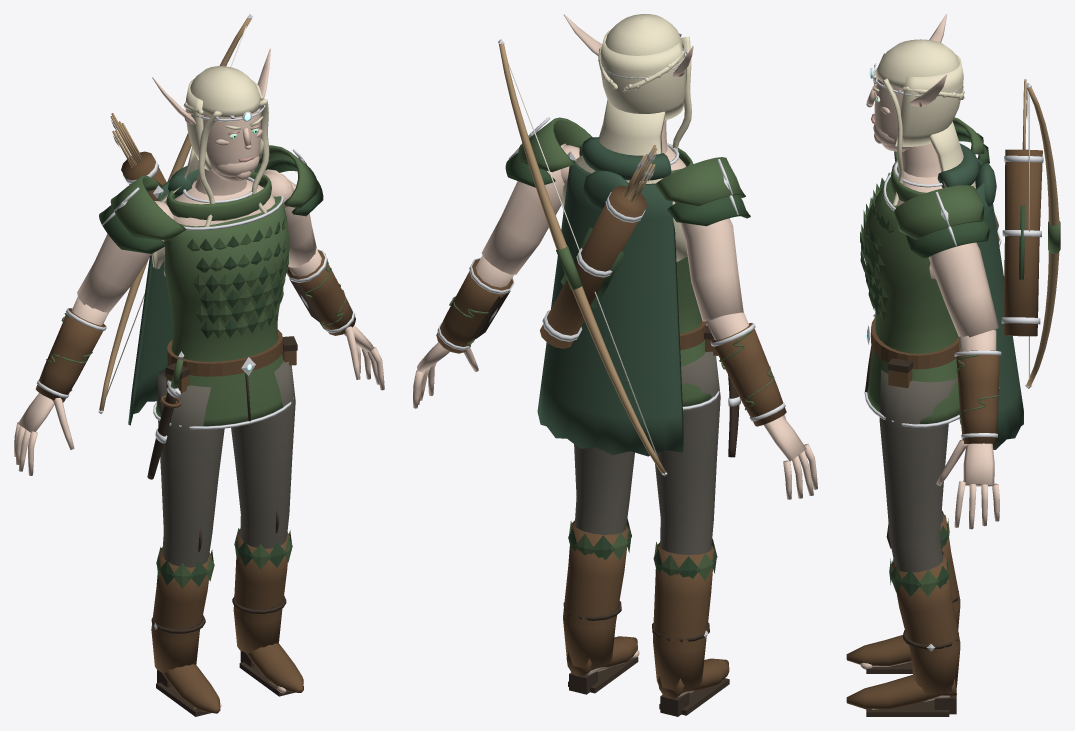
3 renders of one model, left to right at view 1: azimuth 30°, elevation 25°; view 2: azimuth 150°, elevation 25°; view 3: azimuth 270°, elevation 25°, orthographic. The views are drawn at different scales.
Visible parts, largest first — view 1: sylvanor__OW_Armor_ElvenRanger_01_Chest, sylvanor__OW_Armor_ElvenRanger_01_Legs, sylvanor__OW_Armor_ElvenRanger_01_Feet, sylvanor__OW_Char_Elf_01_Body_Head, sylvanor__OW_Armor_ElvenRanger_01_Back, sylvanor__OW_Armor_ElvenRanger_01_Arms, sylvanor__OW_Char_Elf_01_Body_Arms, sylvanor__OW_Armor_ElvenRanger_01_Shoulders, sylvanor__OW_Char_Elf_01_Body_Hands, sylvanor__OW_Armor_ElvenRanger_01_Weapon_Hip, sylvanor__OW_Char_Elf_01_Body_Torso; view 2: sylvanor__OW_Armor_ElvenRanger_01_Back, sylvanor__OW_Armor_ElvenRanger_01_Feet, sylvanor__OW_Armor_ElvenRanger_01_Legs, sylvanor__OW_Char_Elf_01_Body_Head, sylvanor__OW_Char_Elf_01_Body_Arms, sylvanor__OW_Armor_ElvenRanger_01_Arms, sylvanor__OW_Armor_ElvenRanger_01_Shoulders, sylvanor__OW_Char_Elf_01_Body_Hands, sylvanor__OW_Armor_ElvenRanger_01_Chest, sylvanor__OW_Armor_ElvenRanger_01_Weapon_Hip; view 3: sylvanor__OW_Armor_ElvenRanger_01_Back, sylvanor__OW_Armor_ElvenRanger_01_Chest, sylvanor__OW_Armor_ElvenRanger_01_Feet, sylvanor__OW_Char_Elf_01_Body_Head, sylvanor__OW_Armor_ElvenRanger_01_Legs, sylvanor__OW_Armor_ElvenRanger_01_Shoulders, sylvanor__OW_Char_Elf_01_Body_Arms, sylvanor__OW_Armor_ElvenRanger_01_Arms, sylvanor__OW_Char_Elf_01_Body_Hands, sylvanor__OW_Char_Elf_01_Body_Torso.
Boxes of the visible parts, bbox=[...] form: sylvanor__OW_Armor_ElvenRanger_01_Chest: bbox=[153, 172, 297, 429]; sylvanor__OW_Armor_ElvenRanger_01_Legs: bbox=[158, 360, 295, 567]; sylvanor__OW_Armor_ElvenRanger_01_Feet: bbox=[151, 528, 303, 716]; sylvanor__OW_Char_Elf_01_Body_Head: bbox=[151, 48, 270, 268]; sylvanor__OW_Armor_ElvenRanger_01_Back: bbox=[98, 14, 254, 425]; sylvanor__OW_Armor_ElvenRanger_01_Arms: bbox=[35, 249, 355, 402]; sylvanor__OW_Char_Elf_01_Body_Arms: bbox=[71, 169, 321, 325]; sylvanor__OW_Armor_ElvenRanger_01_Shoulders: bbox=[99, 145, 323, 253]; sylvanor__OW_Char_Elf_01_Body_Hands: bbox=[14, 325, 384, 475]; sylvanor__OW_Armor_ElvenRanger_01_Weapon_Hip: bbox=[147, 351, 184, 479]; sylvanor__OW_Char_Elf_01_Body_Torso: bbox=[164, 179, 275, 276]; sylvanor__OW_Armor_ElvenRanger_01_Back: bbox=[498, 39, 684, 476]; sylvanor__OW_Armor_ElvenRanger_01_Feet: bbox=[563, 518, 729, 716]; sylvanor__OW_Armor_ElvenRanger_01_Legs: bbox=[574, 351, 720, 554]; sylvanor__OW_Char_Elf_01_Body_Head: bbox=[562, 14, 693, 261]; sylvanor__OW_Char_Elf_01_Body_Arms: bbox=[475, 143, 748, 340]; sylvanor__OW_Armor_ElvenRanger_01_Arms: bbox=[436, 257, 786, 426]; sylvanor__OW_Armor_ElvenRanger_01_Shoulders: bbox=[505, 117, 750, 226]; sylvanor__OW_Char_Elf_01_Body_Hands: bbox=[413, 342, 817, 499]; sylvanor__OW_Armor_ElvenRanger_01_Chest: bbox=[579, 137, 719, 410]; sylvanor__OW_Armor_ElvenRanger_01_Weapon_Hip: bbox=[720, 359, 740, 457]; sylvanor__OW_Armor_ElvenRanger_01_Back: bbox=[937, 79, 1060, 449]; sylvanor__OW_Armor_ElvenRanger_01_Chest: bbox=[860, 159, 959, 427]; sylvanor__OW_Armor_ElvenRanger_01_Feet: bbox=[846, 511, 960, 716]; sylvanor__OW_Char_Elf_01_Body_Head: bbox=[866, 14, 975, 205]; sylvanor__OW_Armor_ElvenRanger_01_Legs: bbox=[879, 370, 957, 572]; sylvanor__OW_Armor_ElvenRanger_01_Shoulders: bbox=[894, 117, 989, 258]; sylvanor__OW_Char_Elf_01_Body_Arms: bbox=[928, 212, 998, 351]; sylvanor__OW_Armor_ElvenRanger_01_Arms: bbox=[954, 230, 1001, 444]; sylvanor__OW_Char_Elf_01_Body_Hands: bbox=[936, 439, 999, 529]; sylvanor__OW_Char_Elf_01_Body_Torso: bbox=[894, 171, 942, 279].
Size of the model in its own units: 1.19 by 1.93 by 0.5785.
